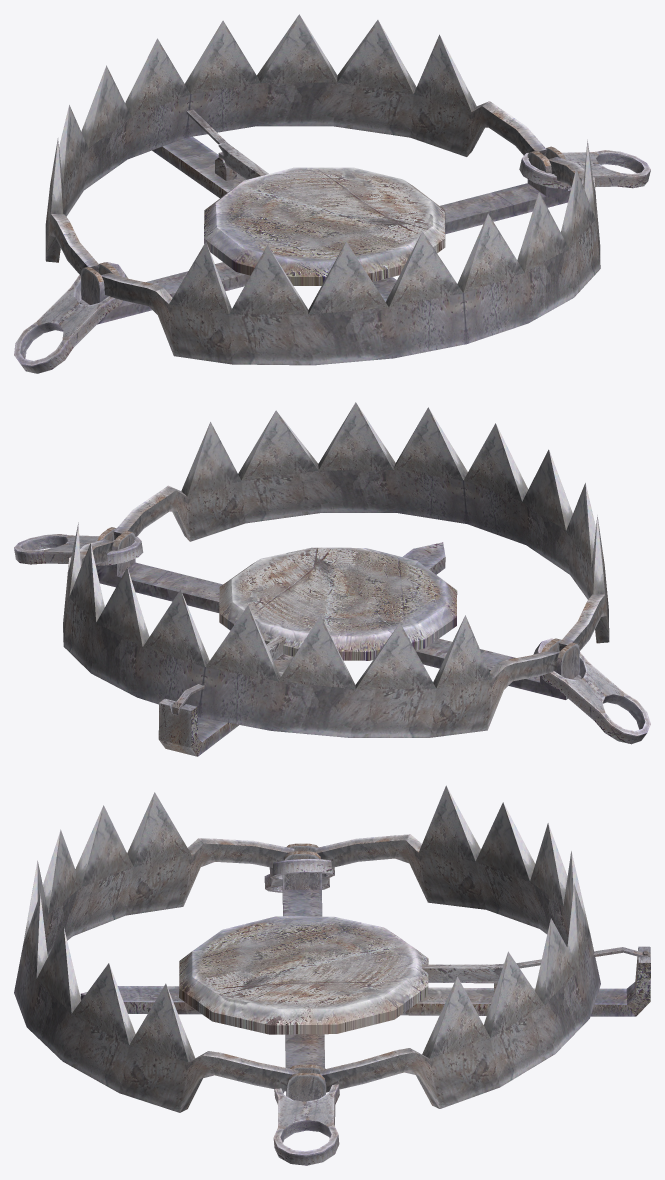
The picture shows the model from 3 angles, top to bottom: view 1: azimuth 30°, elevation 25°; view 2: azimuth 150°, elevation 25°; view 3: azimuth 270°, elevation 25°; orthographic projection. The views are drawn at different scales.
Visible parts, largest first — view 1: Trap_LeftSide, Trap_RightSide, Trap_Center, Trap_Cross, Trap_1, Trap_4; view 2: Trap_RightSide, Trap_LeftSide, Trap_Center, Trap_Cross, Trap_1; view 3: Trap_RightSide, Trap_LeftSide, Trap_Center, Trap_Cross, Trap_1, Trap_4.
Part boxes in pixels (x1,y1,x2,y2): Trap_LeftSide: (101,139,600,365); Trap_RightSide: (45,14,546,275); Trap_Center: (204,167,445,285); Trap_Cross: (79,136,570,324); Trap_1: (14,150,650,373); Trap_4: (218,142,268,179); Trap_RightSide: (63,522,558,737); Trap_LeftSide: (114,402,609,651); Trap_Center: (219,547,457,660); Trap_Cross: (96,527,581,756); Trap_1: (14,534,650,744); Trap_RightSide: (316,785,600,1108); Trap_LeftSide: (14,792,298,1112); Trap_Center: (179,916,428,1034); Trap_Cross: (80,843,650,1101); Trap_1: (264,859,339,1165); Trap_4: (422,963,503,983).
Bounding box in the file's own units: 147 × 38.21 × 124.
Materials: 1 (1 with a texture image).
